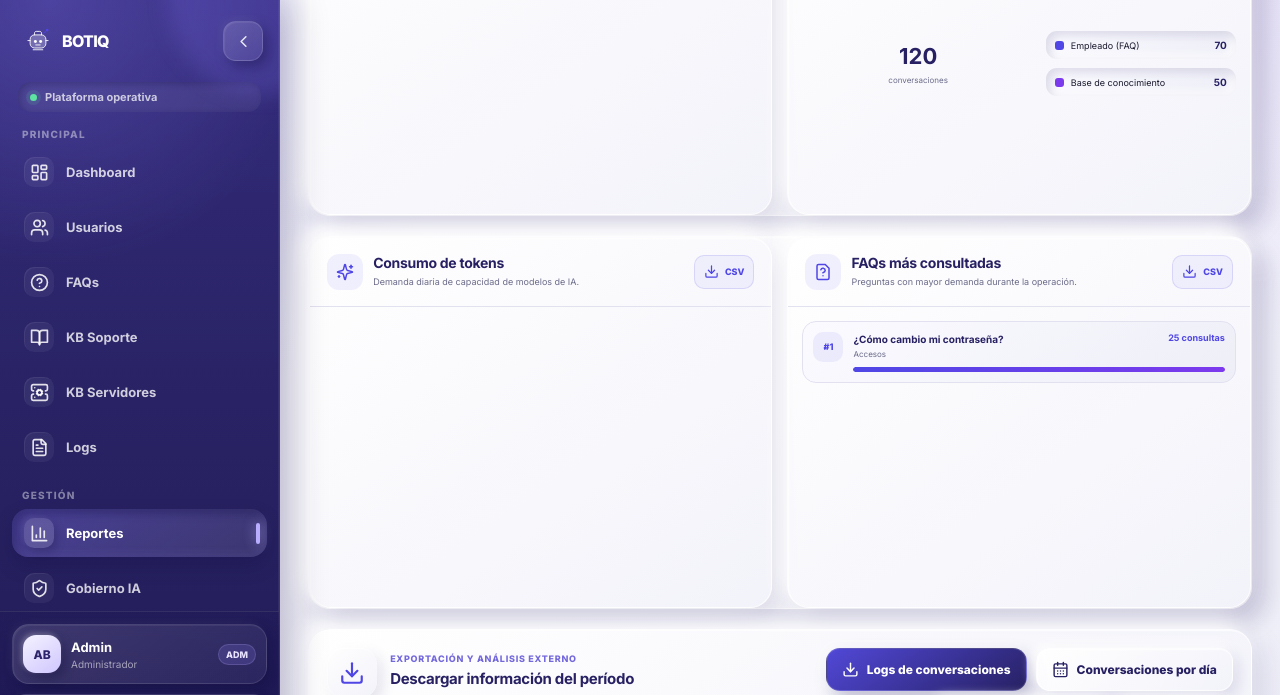
ReportsPage profesional › permite exportar logs de conversaciones
The width and height of the screenshot is (1280, 695).
(page scrolled)
Click the button "Logs de conversaciones": (926, 669) [826,648,1027,691]
(page scrolled)
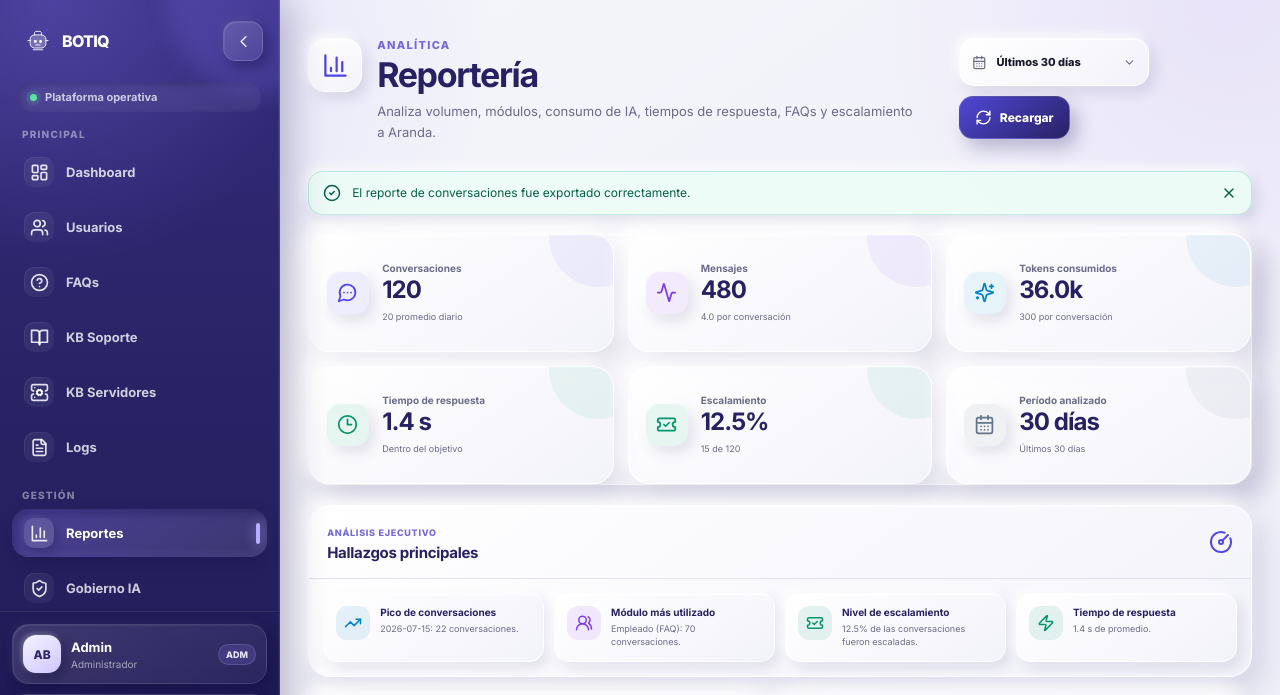
Expected: the text "El reporte de conversaciones fue exportado correctamente." is shown, [352,185,691,200]
